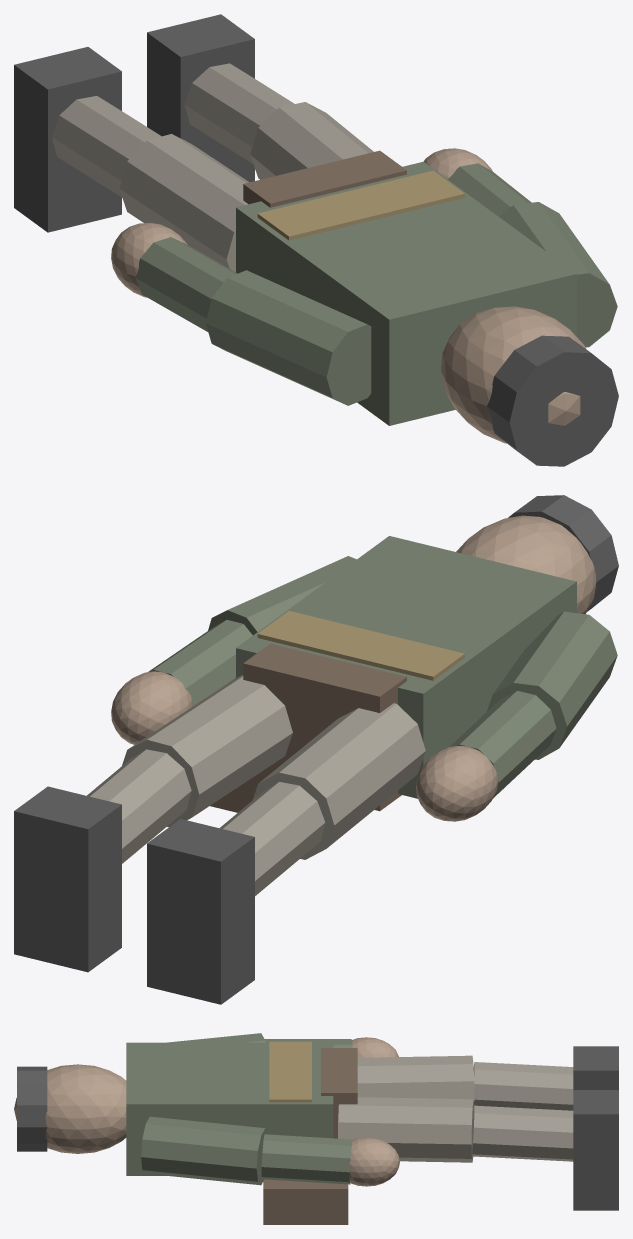
File: SM_CharacterMerchant_Preview.glb
The picture shows the model from 3 angles, top to bottom: view 1: azimuth 30°, elevation 25°; view 2: azimuth 150°, elevation 25°; view 3: azimuth 270°, elevation 25°; orthographic projection. The views are drawn at different scales.
Visible parts, largest first — view 1: Merchant_segment_00, Merchant_segment_07, Merchant_segment_06, Merchant_segment_02, Merchant_segment_04, Merchant_segment_12, Merchant_segment_01, Merchant_segment_17, Merchant_segment_05, Merchant_segment_11, Merchant_segment_10, Merchant_segment_13 (+5 smaller); view 2: Merchant_segment_00, Merchant_segment_12, Merchant_segment_06, Merchant_segment_04, Merchant_segment_10, Merchant_segment_03, Merchant_segment_07, Merchant_segment_17, Merchant_segment_01, Merchant_segment_05, Merchant_segment_11, Merchant_segment_08 (+6 smaller); view 3: Merchant_segment_00, Merchant_segment_10, Merchant_segment_13, Merchant_segment_01, Merchant_segment_12, Merchant_segment_11, Merchant_segment_04, Merchant_segment_05, Merchant_segment_14, Merchant_segment_16, Merchant_segment_17, Merchant_segment_02 (+6 smaller).
Part boxes in pixels (bbox=[...]): Merchant_segment_00: bbox=[236, 161, 576, 425]; Merchant_segment_07: bbox=[205, 270, 371, 405]; Merchant_segment_06: bbox=[14, 47, 121, 232]; Merchant_segment_02: bbox=[487, 335, 618, 466]; Merchant_segment_04: bbox=[119, 134, 248, 272]; Merchant_segment_12: bbox=[147, 14, 254, 182]; Merchant_segment_01: bbox=[441, 306, 585, 443]; Merchant_segment_17: bbox=[257, 170, 464, 240]; Merchant_segment_05: bbox=[52, 96, 161, 197]; Merchant_segment_11: bbox=[184, 63, 294, 163]; Merchant_segment_10: bbox=[250, 102, 373, 179]; Merchant_segment_13: bbox=[499, 202, 617, 347]; Merchant_segment_00: bbox=[236, 536, 576, 798]; Merchant_segment_12: bbox=[14, 786, 121, 972]; Merchant_segment_06: bbox=[147, 819, 254, 1004]; Merchant_segment_04: bbox=[252, 703, 425, 859]; Merchant_segment_10: bbox=[122, 675, 292, 827]; Merchant_segment_03: bbox=[243, 643, 406, 811]; Merchant_segment_07: bbox=[486, 611, 617, 759]; Merchant_segment_17: bbox=[257, 611, 464, 680]; Merchant_segment_01: bbox=[456, 515, 596, 614]; Merchant_segment_05: bbox=[219, 782, 325, 895]; Merchant_segment_11: bbox=[87, 749, 191, 863]; Merchant_segment_08: bbox=[450, 691, 556, 798]; Merchant_segment_00: bbox=[126, 1042, 333, 1175]; Merchant_segment_10: bbox=[338, 1097, 474, 1162]; Merchant_segment_13: bbox=[141, 1116, 268, 1185]; Merchant_segment_01: bbox=[14, 1064, 126, 1153]; Merchant_segment_12: bbox=[573, 1090, 618, 1210]; Merchant_segment_11: bbox=[472, 1105, 573, 1161]; Merchant_segment_04: bbox=[357, 1055, 474, 1102]; Merchant_segment_05: bbox=[473, 1062, 573, 1110]; Merchant_segment_14: bbox=[261, 1134, 352, 1184]; Merchant_segment_16: bbox=[263, 1179, 348, 1224]; Merchant_segment_17: bbox=[269, 1041, 311, 1102]; Merchant_segment_02: bbox=[17, 1066, 47, 1151].
Bounding box in the file's own units: 0.95 × 0.39 × 1.99.
